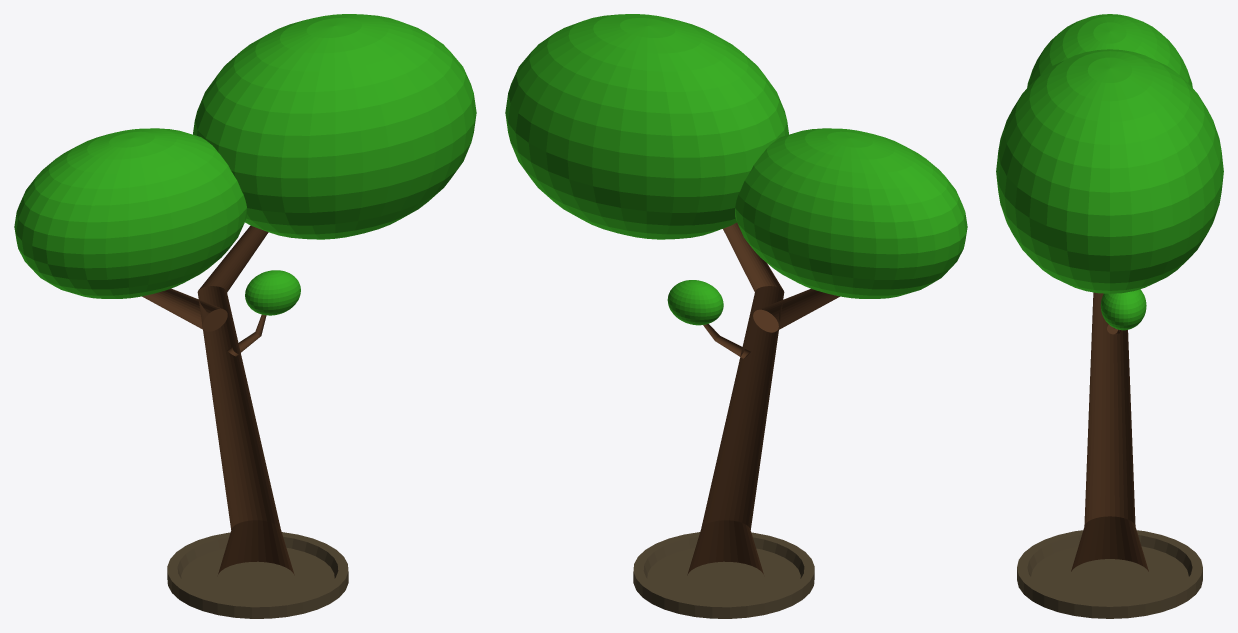
File: arbol 2.fbx
The picture shows the model from 3 angles, left to right: view 1: azimuth 30°, elevation 25°; view 2: azimuth 150°, elevation 25°; view 3: azimuth 270°, elevation 25°; orthographic projection. The views are drawn at different scales.
Visible parts, largest first — view 1: Sphere.006; view 2: Sphere.006; view 3: Sphere.006.
Boxes of the visible parts, x1,y1,x2,y2 form: Sphere.006: (14,14,476,618); Sphere.006: (505,14,967,618); Sphere.006: (996,14,1223,618).
Size of the model in its own units: 448 by 517 by 194.
